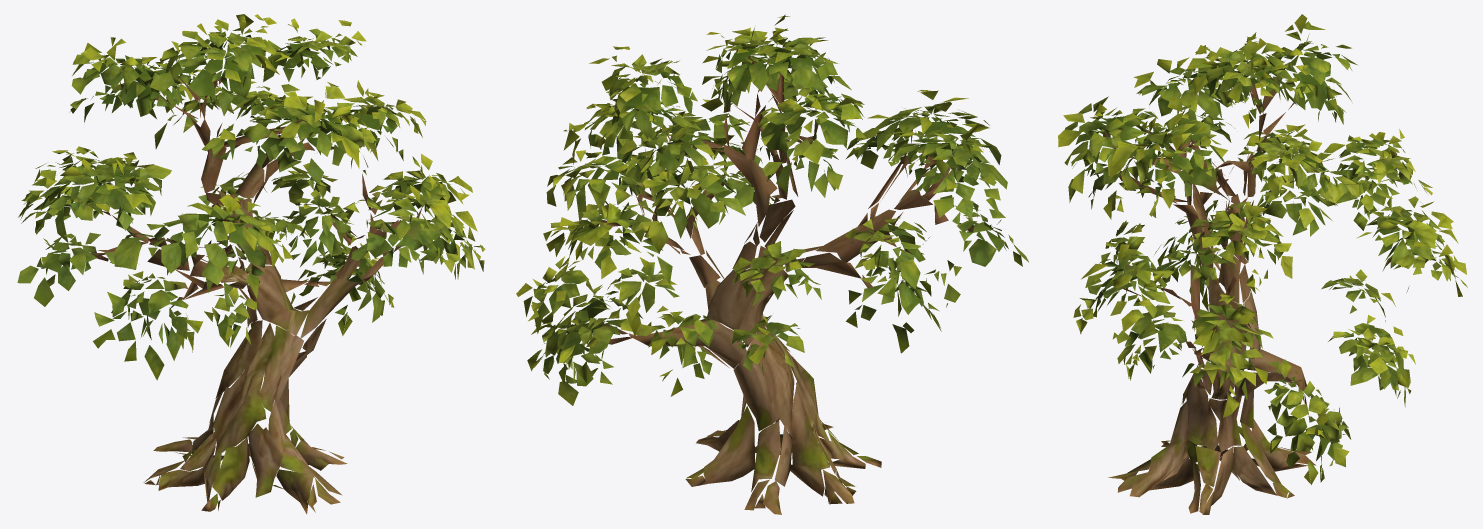
File: tree-v2.glb
The picture shows the model from 3 angles, left to right: view 1: azimuth 30°, elevation 25°; view 2: azimuth 150°, elevation 25°; view 3: azimuth 270°, elevation 25°; orthographic projection. The views are drawn at different scales.
Visible parts, largest first — view 1: tripo_node_6d22a25d-f581-4f64-9037-c77e1c344d47; view 2: tripo_node_6d22a25d-f581-4f64-9037-c77e1c344d47; view 3: tripo_node_6d22a25d-f581-4f64-9037-c77e1c344d47.
Part boxes in pixels (x1=…): tripo_node_6d22a25d-f581-4f64-9037-c77e1c344d47: x1=17, y1=14, x2=485, y2=514; tripo_node_6d22a25d-f581-4f64-9037-c77e1c344d47: x1=516, y1=14, x2=1028, y2=514; tripo_node_6d22a25d-f581-4f64-9037-c77e1c344d47: x1=1058, y1=14, x2=1467, y2=514.
Bounding box in the file's own units: 4.87 × 4.48 × 3.93.
Materials: 1 (1 with a texture image).
